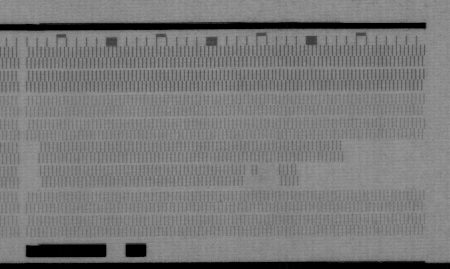Broken hole: (340, 138, 427, 192), (295, 162, 348, 190), (241, 165, 283, 190), (25, 139, 44, 192)
